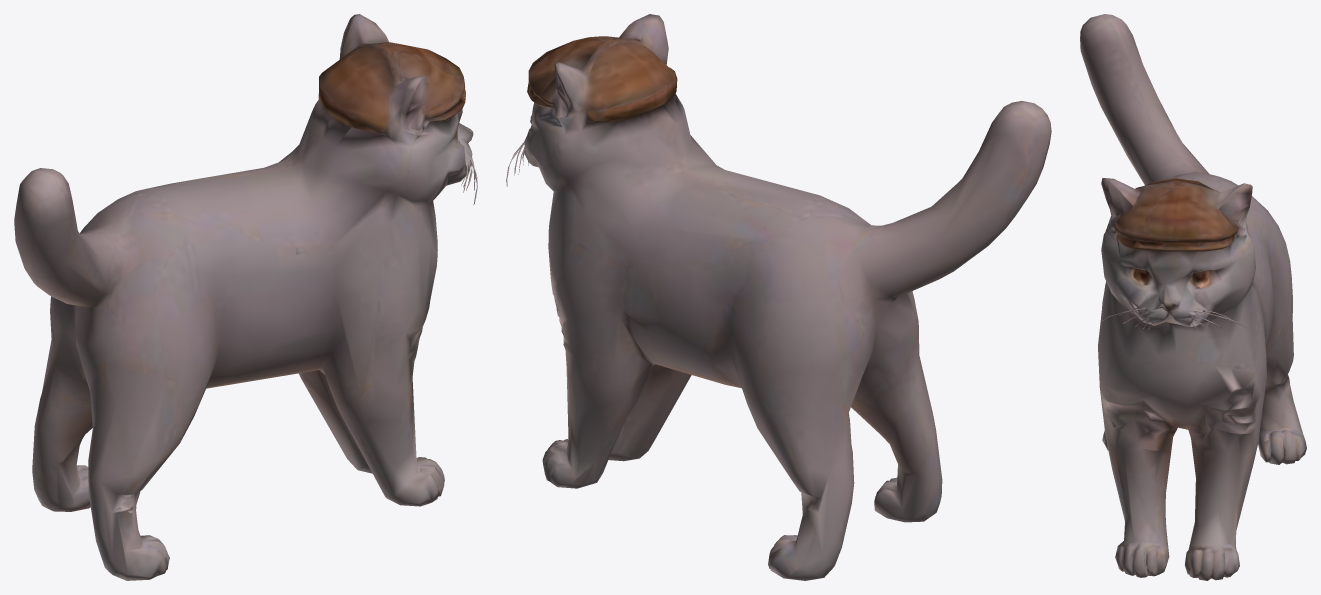
The model's file is TUPPENCE-lo.glb.
3 renders of one model, left to right at view 1: azimuth 30°, elevation 25°; view 2: azimuth 150°, elevation 25°; view 3: azimuth 270°, elevation 25°, orthographic. The views are drawn at different scales.
Visible parts, largest first — view 1: material; view 2: material; view 3: material.
Part boxes in pixels (x1,y1,x2,y2): material: (14,14,477,580); material: (506,14,1051,580); material: (1080,14,1306,580).
Bounding box in the file's own units: 1.17 × 0.9981 × 0.5327.
Materials: 1 (1 with a texture image).
